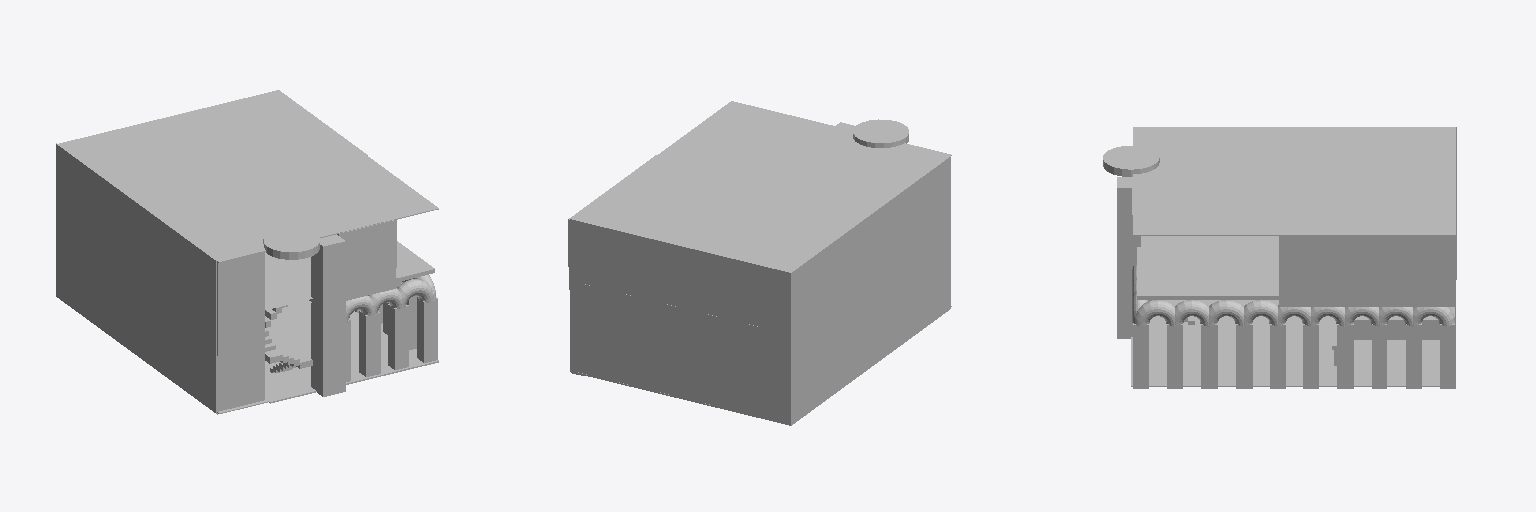
Rendered from fachada2.obj.
3 views of the same model, side by side, from view 1: azimuth 30°, elevation 25°; view 2: azimuth 150°, elevation 25°; view 3: azimuth 270°, elevation 25° (orthographic).
Visible parts, largest first — view 1: polySurface636; view 2: polySurface636; view 3: polySurface636.
Boxes of the visible parts, x1,y1,x2,y2 form: polySurface636: [56, 90, 438, 414]; polySurface636: [568, 101, 951, 425]; polySurface636: [1103, 127, 1456, 388].
Size of the model in its own units: 48.2 by 32.83 by 66.37.